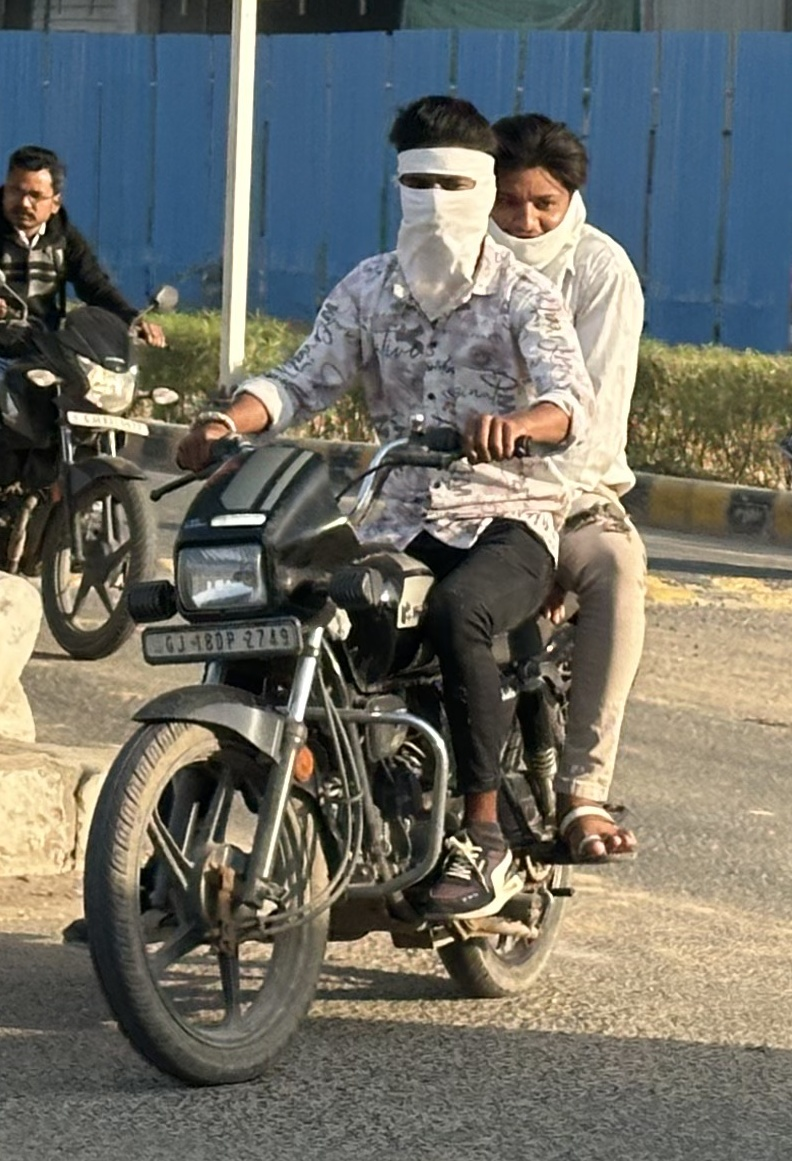BikeWithRider: (58, 84, 671, 1098), (1, 135, 194, 670)
NoHelmet: (372, 86, 512, 261), (473, 102, 604, 269), (0, 137, 80, 238)
